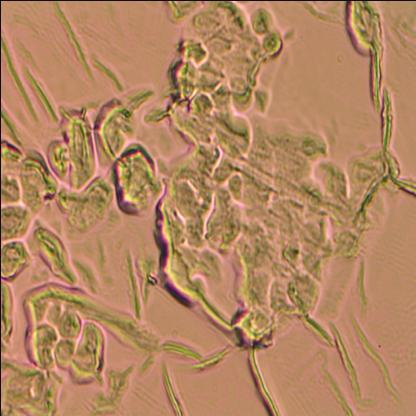Stage I: (0, 38, 326, 348)
